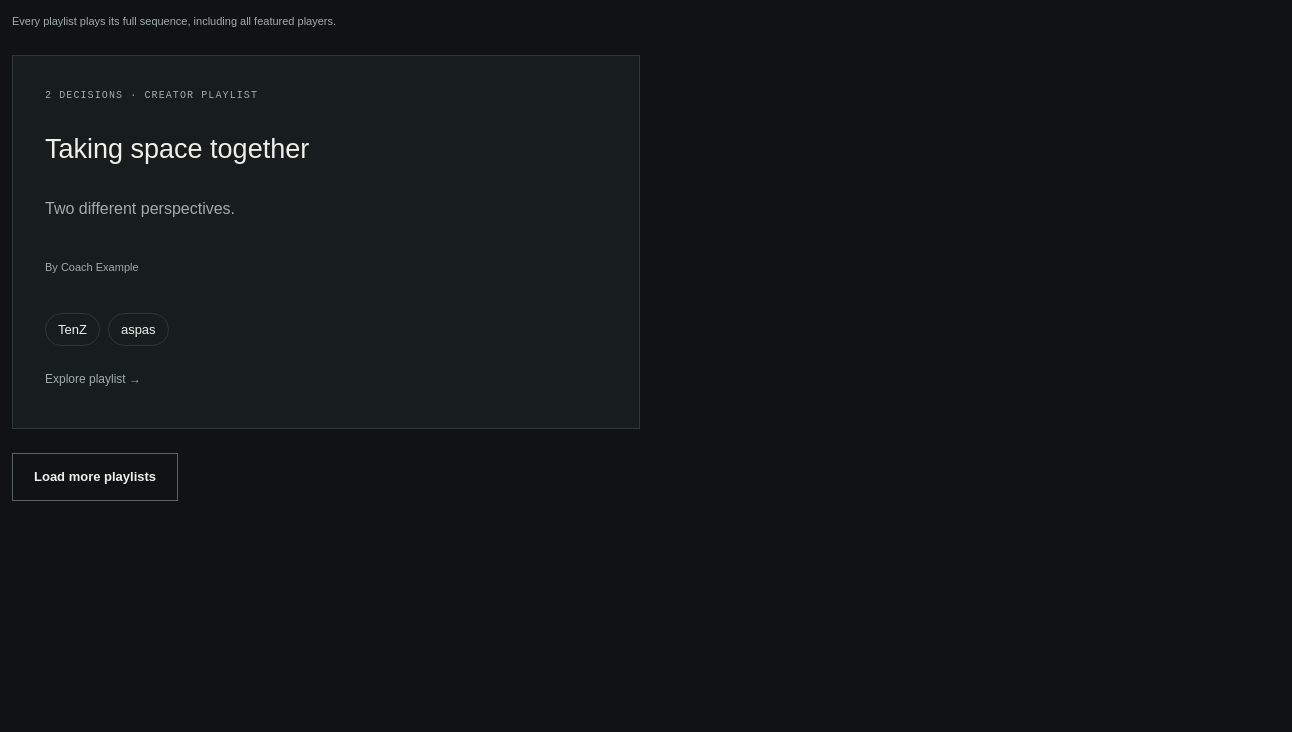
Test: playlist discovery and owner dashboard › keeps a mixed collection complete through an exact player filter and deduplicates pagination
Click the button "Load more playlists" at (95, 477), box left=12, top=453, right=178, bottom=501
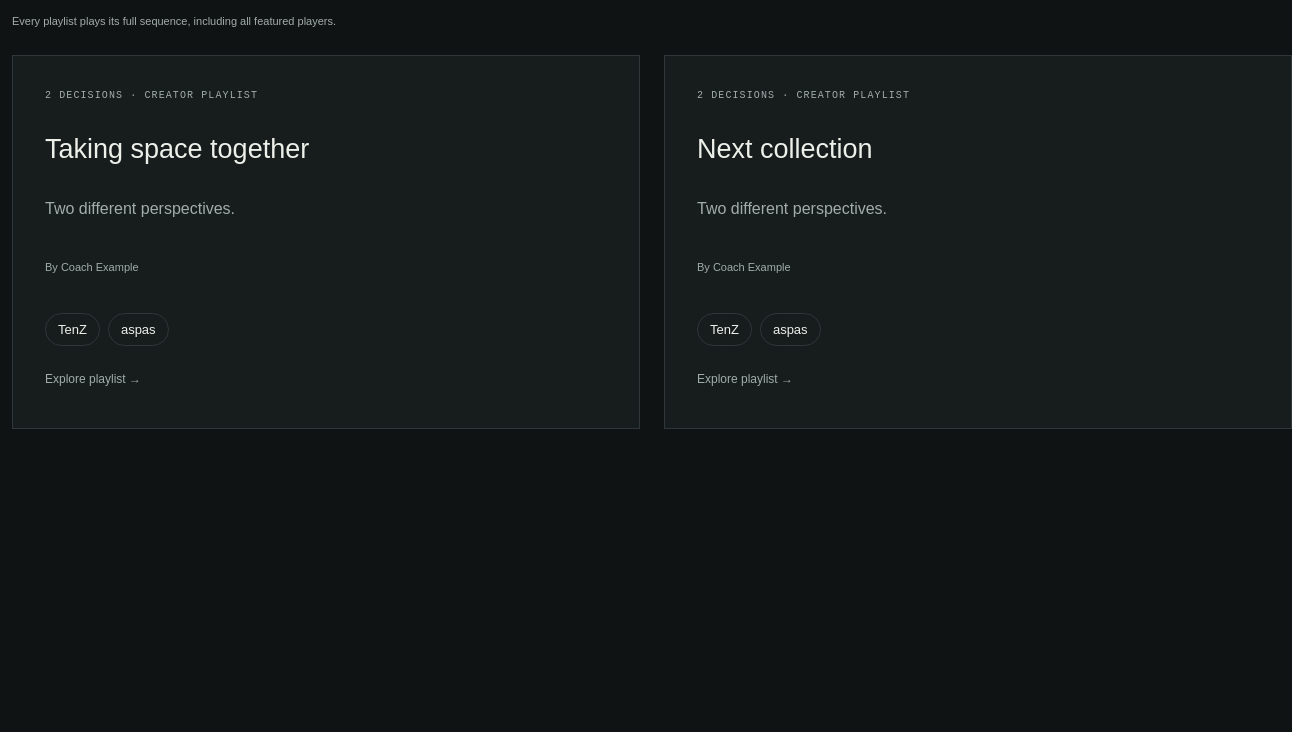
Expected: the number of links "Taking space together" is 1, left=45, top=134, right=309, bottom=164
Expected: the link "Next collection" is shown, left=697, top=134, right=873, bottom=164
